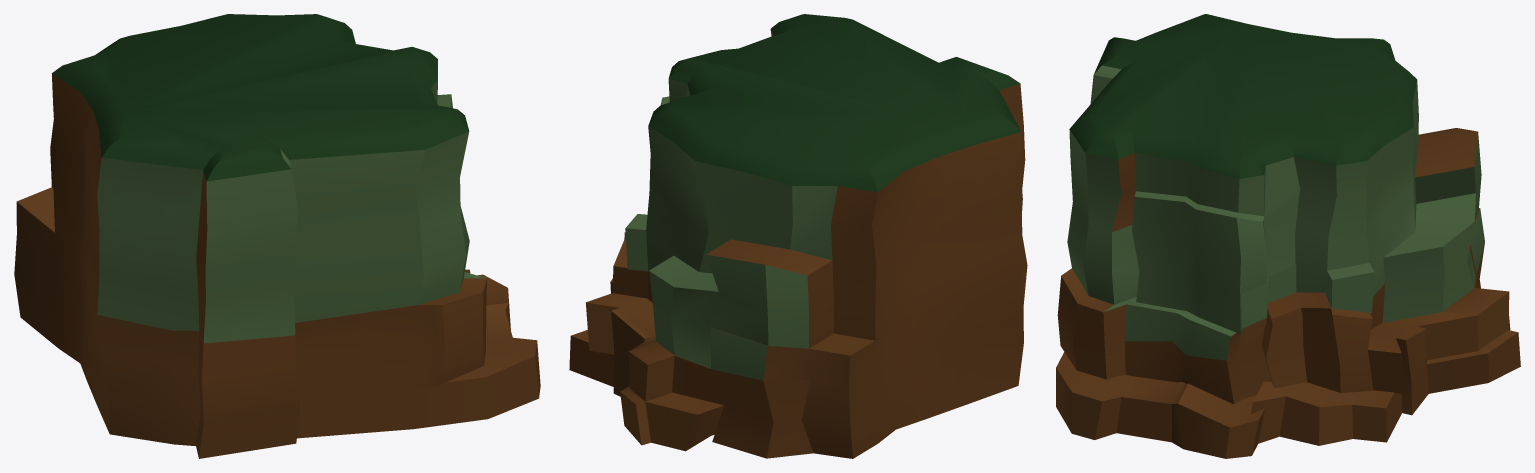
Rendered from Environment_Asset_Mountain.fbx.
The picture shows the model from 3 angles, left to right: view 1: azimuth 30°, elevation 25°; view 2: azimuth 150°, elevation 25°; view 3: azimuth 270°, elevation 25°; orthographic projection. The views are drawn at different scales.
Parts seen in each view (by area): view 1: Plane.011; view 2: Plane.011; view 3: Plane.011.
Boxes of the visible parts, left/top/right/bottom form: Plane.011: left=14, top=14, right=540, bottom=458; Plane.011: left=569, top=14, right=1027, bottom=458; Plane.011: left=1056, top=14, right=1520, bottom=458.
Size of the model in its own units: 1248 by 831 by 1301.
